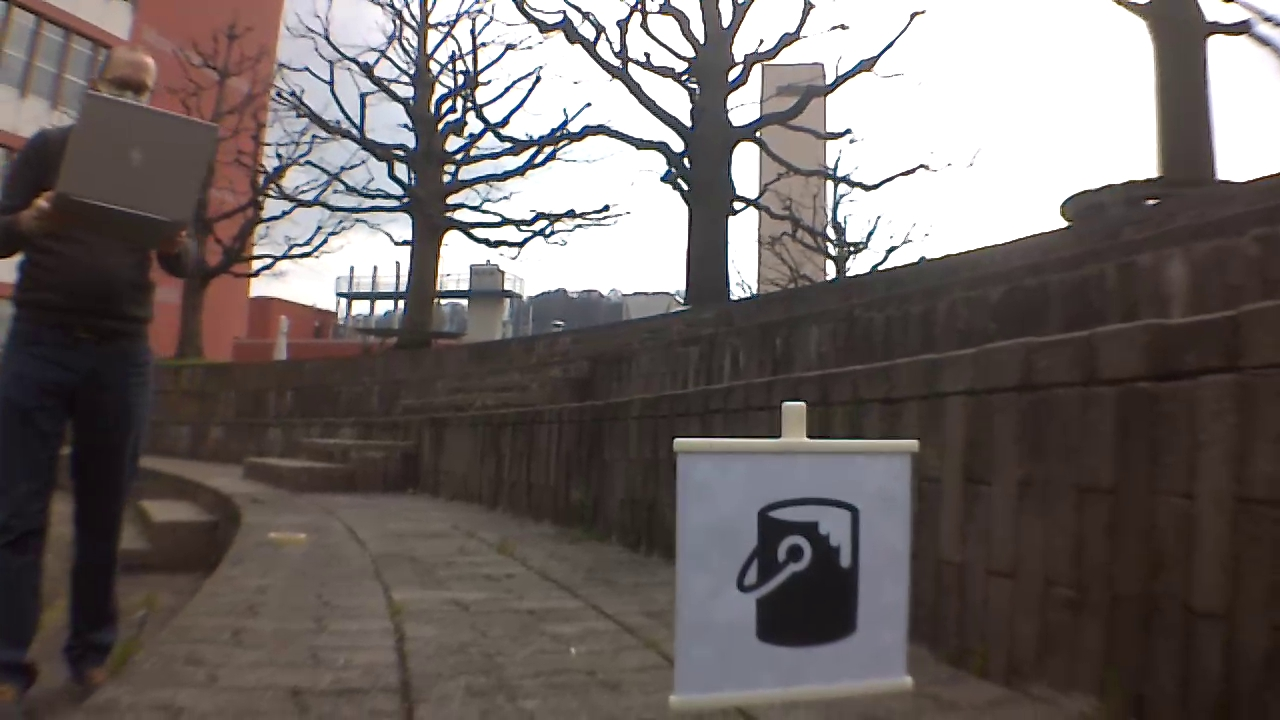bucket: (734, 492, 871, 651)
